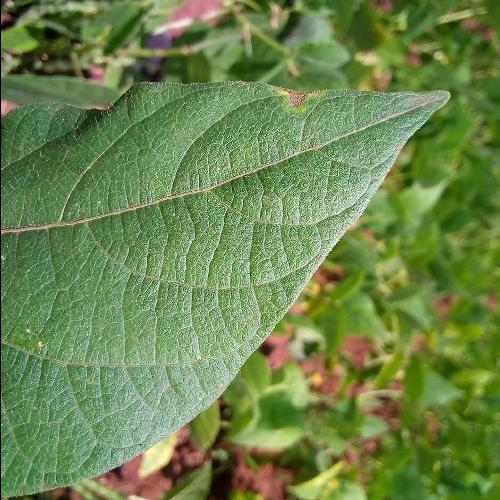hawar: (258, 81, 316, 117), (14, 308, 53, 359)
mozaik: (81, 108, 225, 368)
